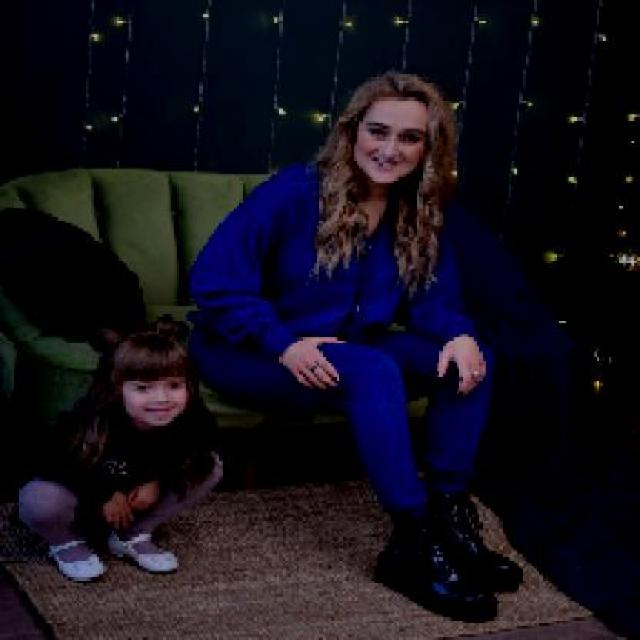child: (11, 314, 226, 583)
